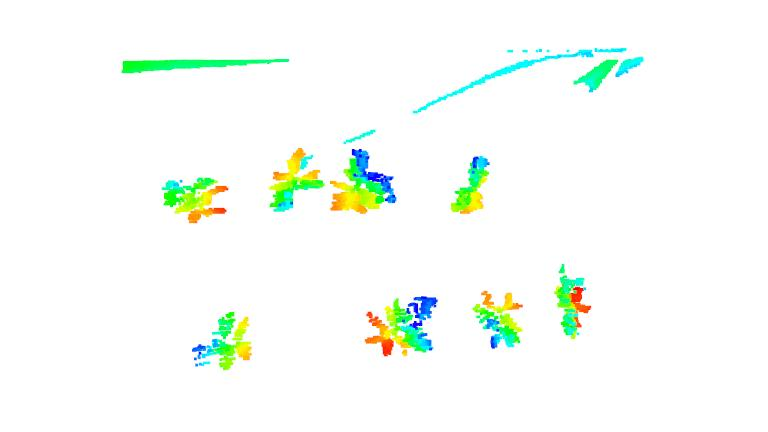chickpea: (363, 292, 439, 361), (325, 148, 400, 216), (189, 310, 253, 373), (266, 146, 320, 213), (161, 173, 230, 223), (445, 152, 493, 217), (474, 289, 525, 350), (552, 264, 591, 340)
